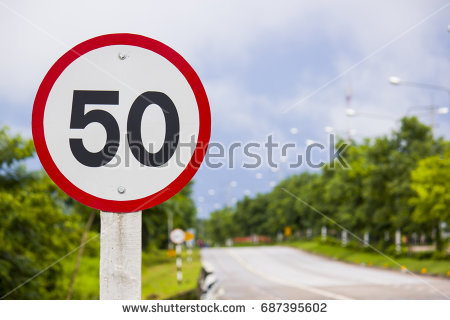Speed_limit_50km: (30, 32, 211, 213)
